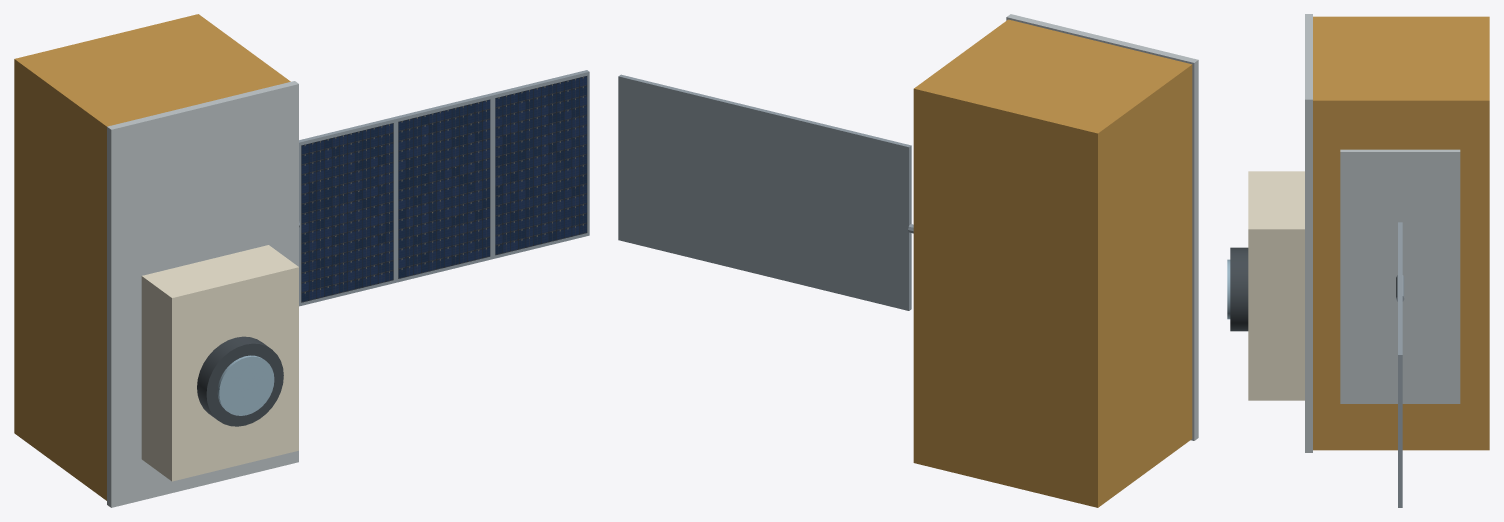
The model's file is terra.glb.
3 views of the same model, side by side, from view 1: azimuth 30°, elevation 25°; view 2: azimuth 150°, elevation 25°; view 3: azimuth 270°, elevation 25° (orthographic). The views are drawn at different scales.
Visible parts, largest first — view 1: Equipment module, Photovoltaic laminates (×3), Payload deck, Instrument housing, Array frame (×3), Optical baffle, Optical aperture; view 2: Equipment module, Array frame (×3), Payload deck; view 3: Equipment module, Thermal radiator, Instrument housing, Payload deck, Optical baffle, Array frame.
Boxes of the visible parts, x1=… form: Equipment module: x1=14, y1=14, x2=290, y2=500; Photovoltaic laminates (×3): x1=301, y1=76, x2=587, y2=302; Payload deck: x1=107, y1=81, x2=298, y2=507; Instrument housing: x1=141, y1=245, x2=298, y2=481; Array frame (×3): x1=299, y1=70, x2=589, y2=306; Optical baffle: x1=197, y1=336, x2=283, y2=426; Optical aperture: x1=217, y1=355, x2=274, y2=415; Equipment module: x1=913, y1=19, x2=1192, y2=507; Array frame (×3): x1=618, y1=74, x2=911, y2=310; Payload deck: x1=1006, y1=14, x2=1198, y2=440; Equipment module: x1=1313, y1=16, x2=1489, y2=450; Thermal radiator: x1=1340, y1=149, x2=1460, y2=403; Instrument housing: x1=1248, y1=171, x2=1304, y2=400; Payload deck: x1=1305, y1=14, x2=1312, y2=452; Optical baffle: x1=1230, y1=247, x2=1248, y2=331; Array frame: x1=1398, y1=310, x2=1402, y2=507.
Bounding box in the file's own units: 10.04 × 6.87 × 4.62.
7 materials, 1 textured.
